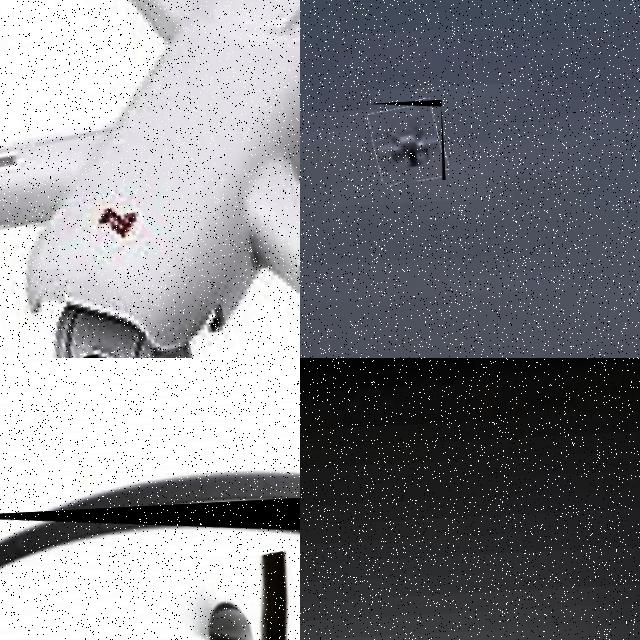drone: (0, 0, 300, 358), (0, 483, 300, 640), (370, 100, 446, 184)
